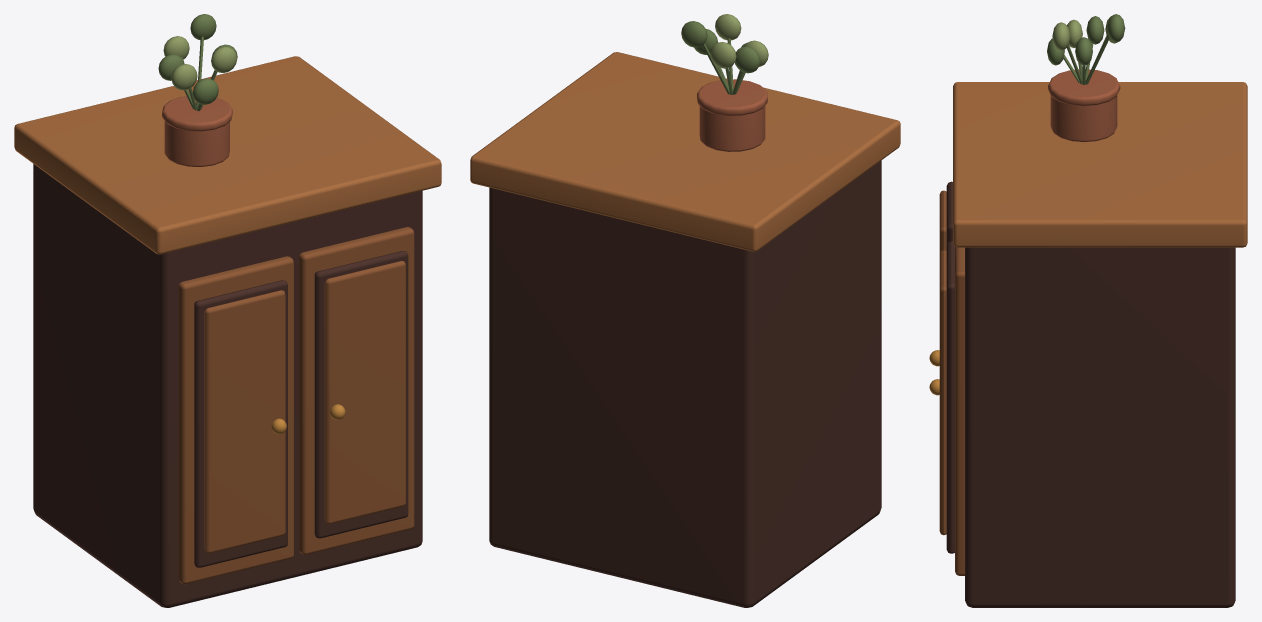
Rendered from bedroom-wardrobe.glb.
3 renders of one model, left to right at view 1: azimuth 30°, elevation 25°; view 2: azimuth 150°, elevation 25°; view 3: azimuth 270°, elevation 25°, orthographic.
Parts seen in each view (by area): view 1: bedroom_wardrobe_pivot_Mesh; view 2: bedroom_wardrobe_pivot_Mesh; view 3: bedroom_wardrobe_pivot_Mesh.
Boxes of the visible parts, x1,y1,x2,y2 form: bedroom_wardrobe_pivot_Mesh: [14, 14, 441, 607]; bedroom_wardrobe_pivot_Mesh: [470, 14, 900, 607]; bedroom_wardrobe_pivot_Mesh: [929, 14, 1247, 607].
Bounding box in the file's own units: 1.85 × 3.19 × 1.76.
